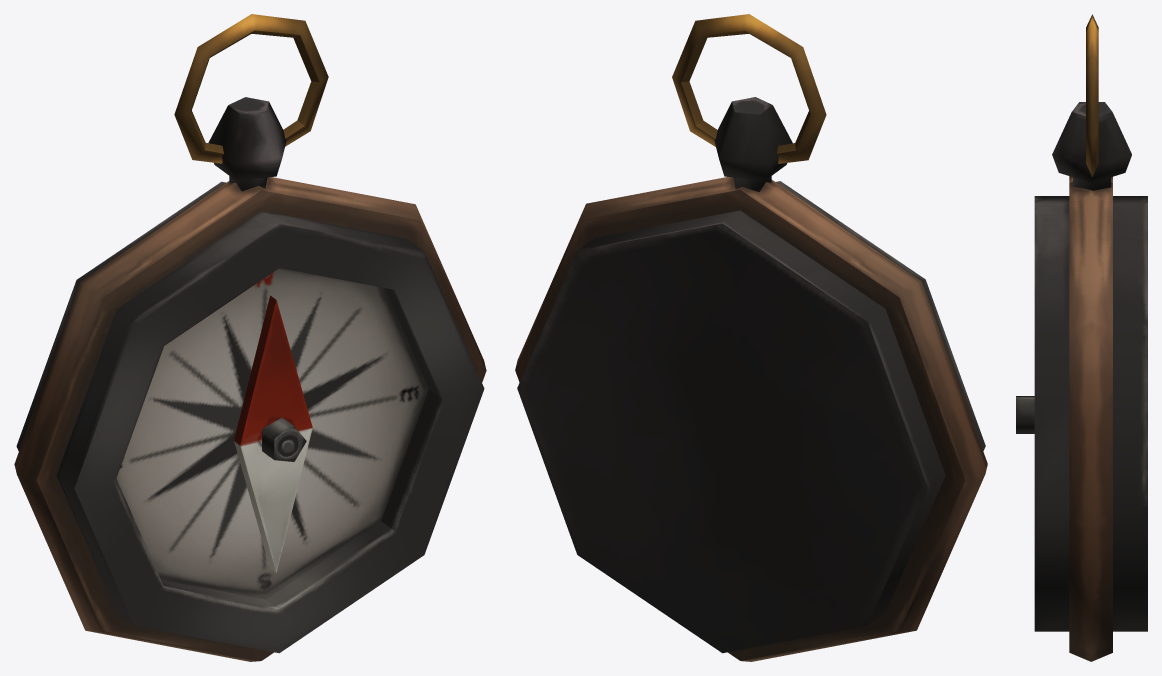
Rendered from 19_compass.FBX.
3 renders of one model, left to right at view 1: azimuth 30°, elevation 25°; view 2: azimuth 150°, elevation 25°; view 3: azimuth 270°, elevation 25°, orthographic. The views are drawn at different scales.
Parts seen in each view (by area): view 1: 19_compass; view 2: 19_compass; view 3: 19_compass.
Boxes of the visible parts, box(x1,y1,x2,y2) form: 19_compass: box(14, 14, 486, 661); 19_compass: box(515, 14, 987, 661); 19_compass: box(1016, 14, 1147, 661).
Size of the model in its own units: 39.38 by 52.11 by 9.83.
